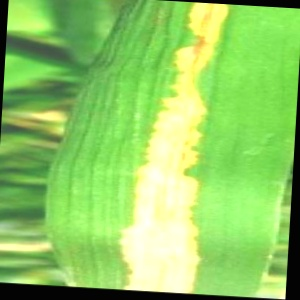Leaf_Blast: (61, 0, 275, 292)
